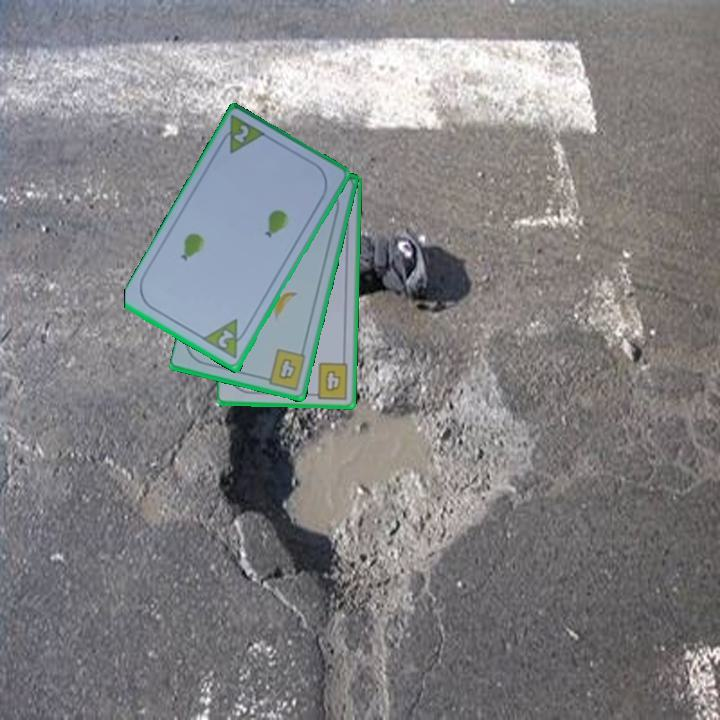2p: (200, 316, 252, 362), (230, 121, 252, 147)
4b: (259, 345, 309, 393), (307, 359, 351, 402)
